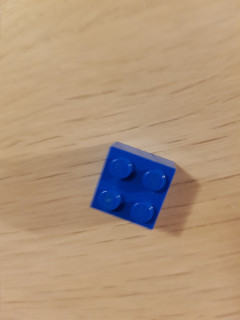2x2 blue: (90, 141, 176, 231)
